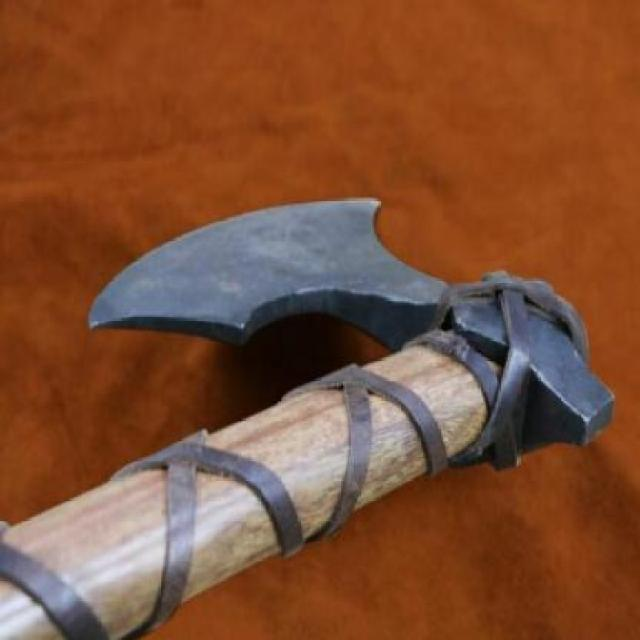weapon: (0, 190, 619, 637)
